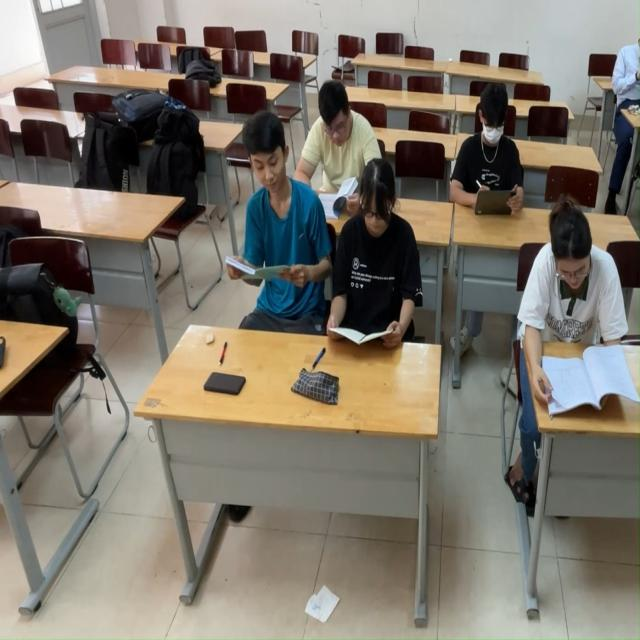read: (515, 197, 637, 432), (335, 147, 427, 356), (233, 121, 302, 395), (457, 81, 528, 235), (310, 72, 357, 211)
